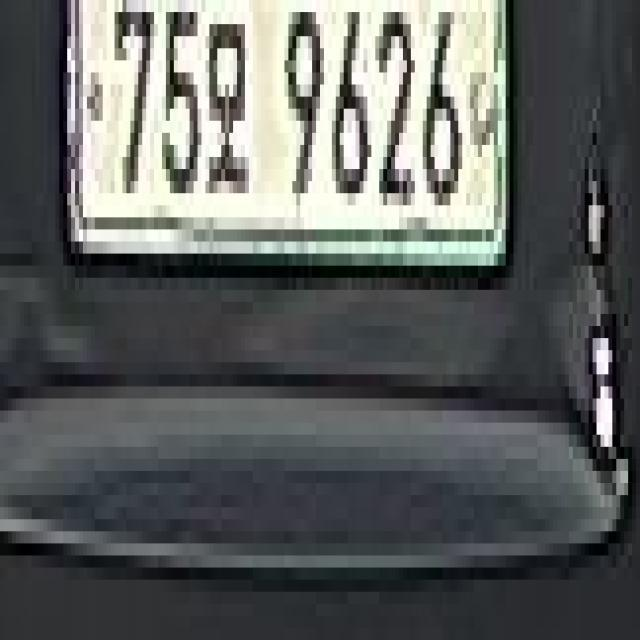plat: (61, 0, 513, 274)
